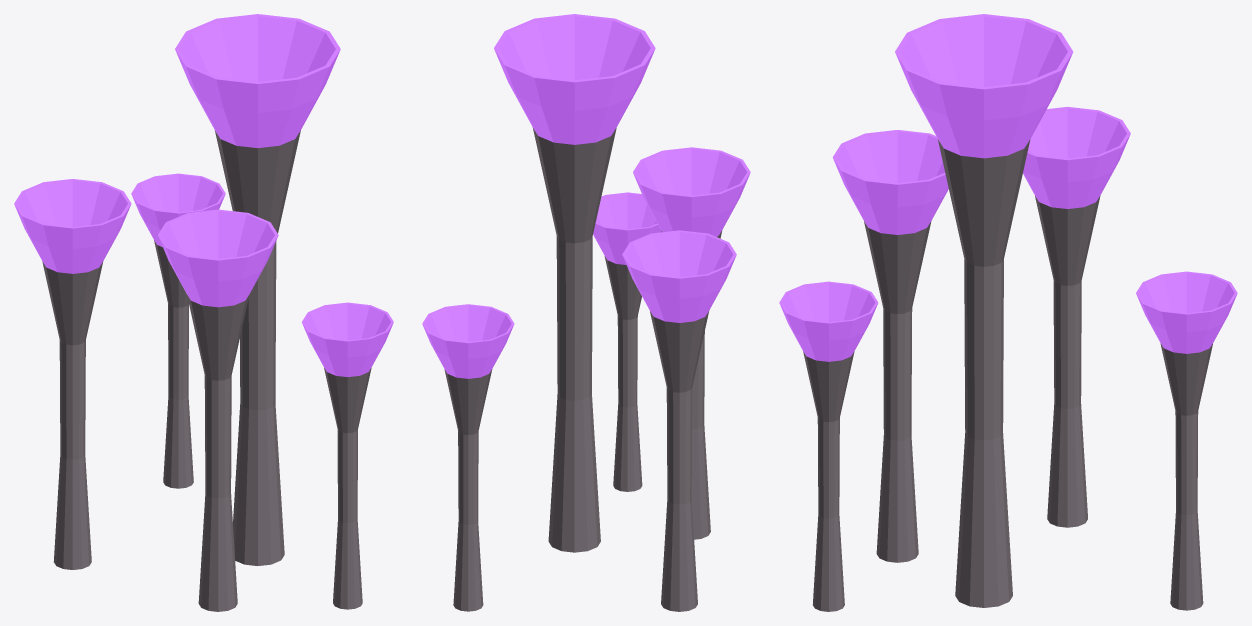
File: trumpet_v01.glb
3 renders of one model, left to right at view 1: azimuth 30°, elevation 25°; view 2: azimuth 150°, elevation 25°; view 3: azimuth 270°, elevation 25°, orthographic. The views are drawn at different scales.
Parts seen in each view (by area): view 1: mushroom_trumpet_flesh_nocol, mushroom_trumpet_glow_nocol; view 2: mushroom_trumpet_flesh_nocol, mushroom_trumpet_glow_nocol; view 3: mushroom_trumpet_flesh_nocol, mushroom_trumpet_glow_nocol.
Boxes of the visible parts, x1,y1,x2,y2 form: mushroom_trumpet_flesh_nocol: (42,130,371,611); mushroom_trumpet_glow_nocol: (14,14,393,376); mushroom_trumpet_flesh_nocol: (444,127,722,611); mushroom_trumpet_glow_nocol: (422,14,750,378); mushroom_trumpet_flesh_nocol: (803,139,1212,611); mushroom_trumpet_glow_nocol: (779,14,1237,361).
Bounding box in the file's own units: 1.4 × 2.51 × 1.92.
